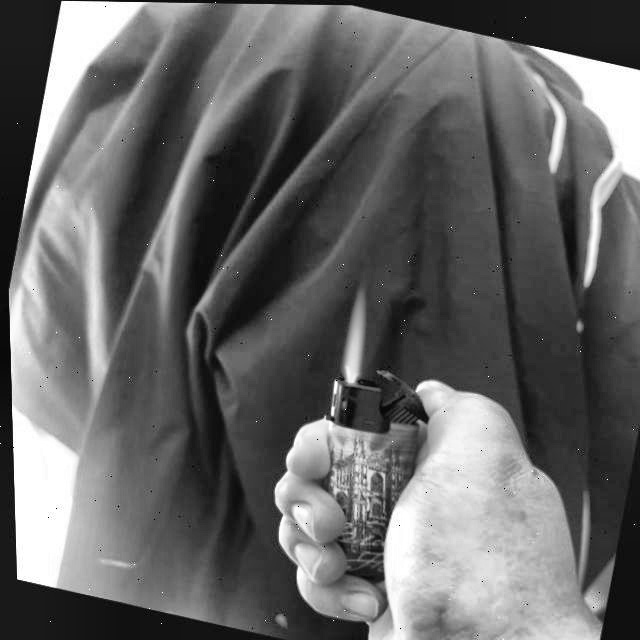Fire: (332, 288, 380, 382)
